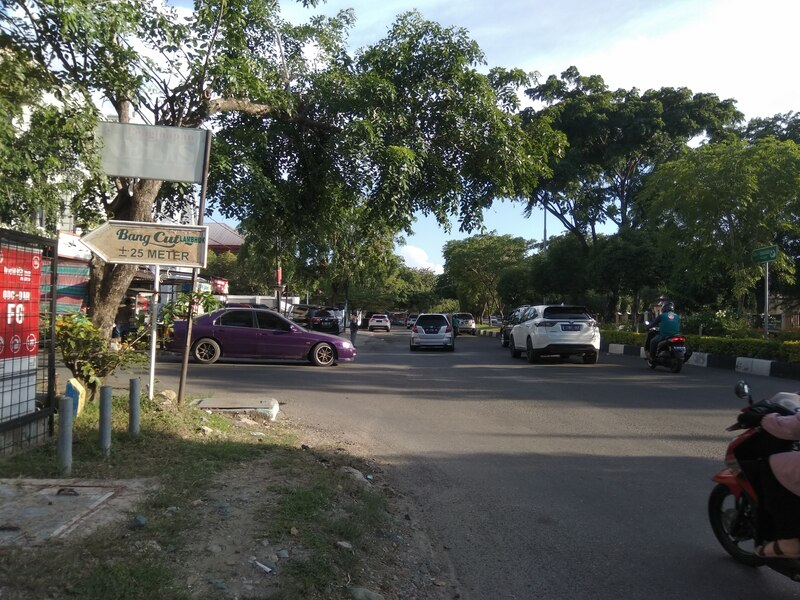car: (165, 305, 361, 368), (508, 302, 604, 370), (409, 311, 458, 355)
motorcycle: (703, 374, 800, 580), (642, 318, 697, 375)
